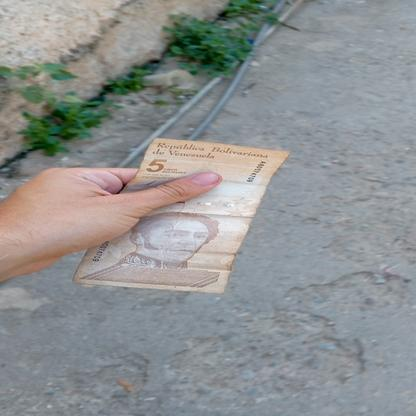five-front-vef: (72, 137, 290, 294)
